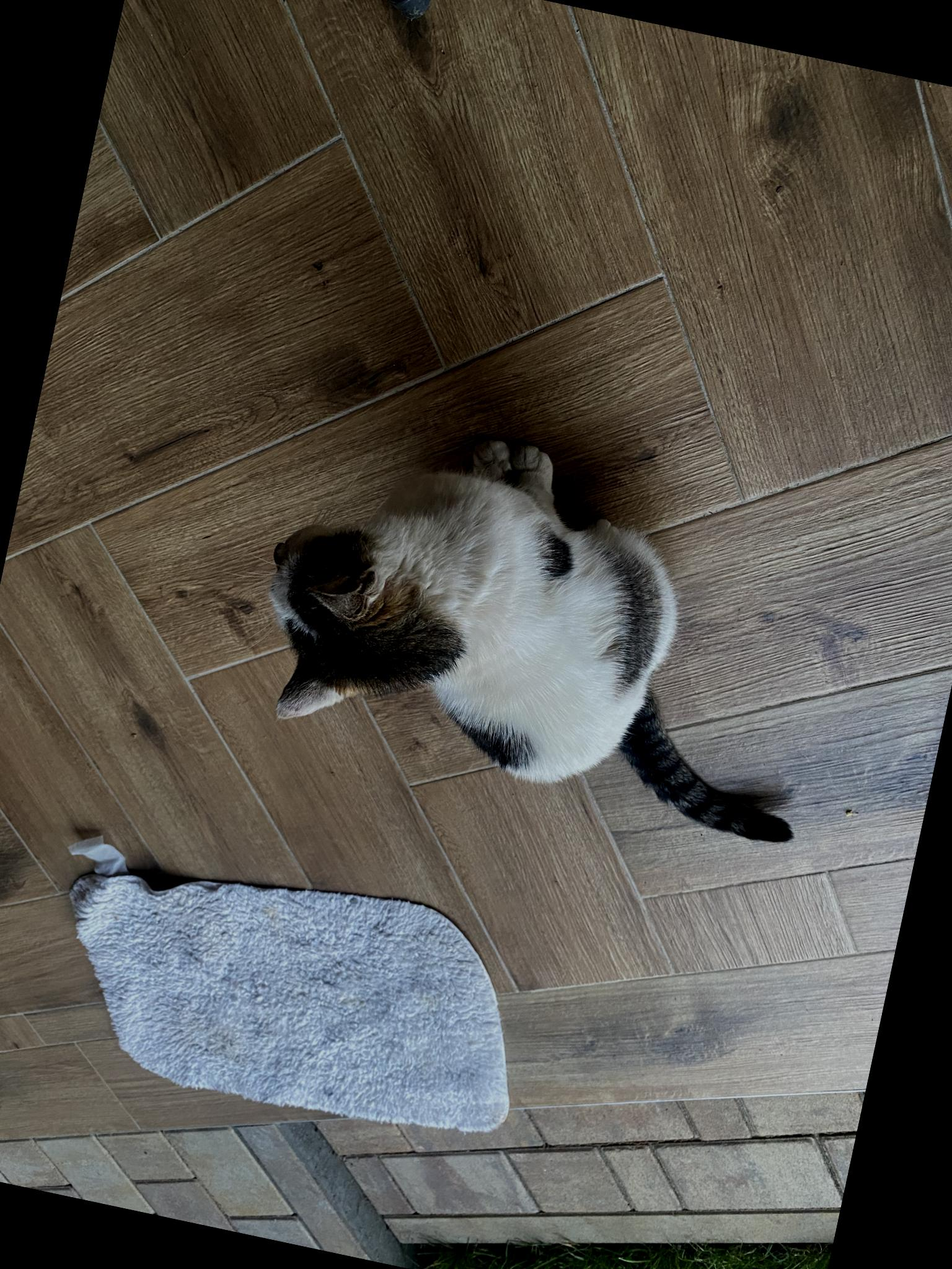macka: (237, 393, 863, 848)
